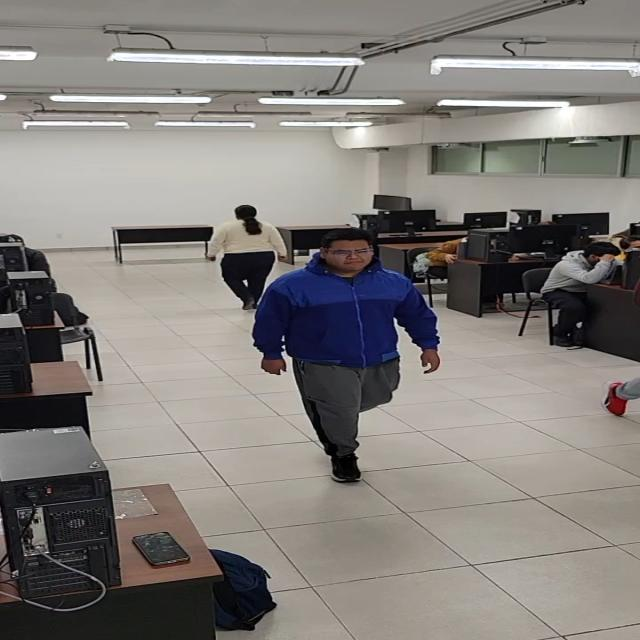Persona: (250, 224, 436, 481), (210, 203, 271, 308)
